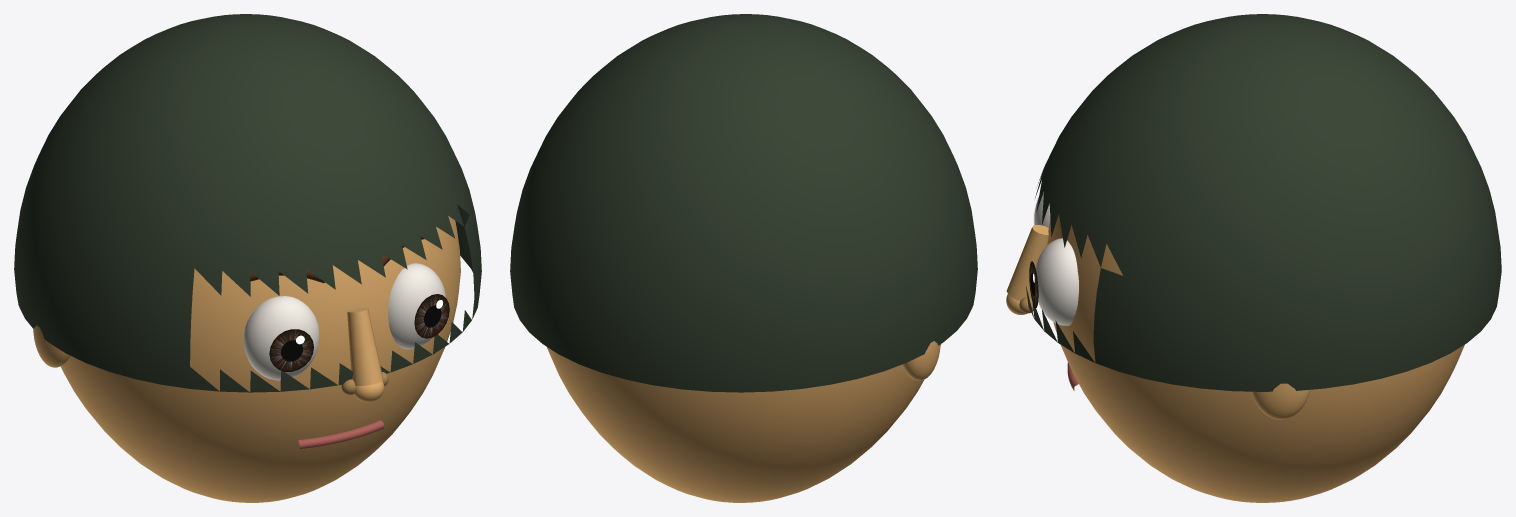
Rendered from 09-cagoule.glb.
3 renders of one model, left to right at view 1: azimuth 30°, elevation 25°; view 2: azimuth 150°, elevation 25°; view 3: azimuth 270°, elevation 25°, orthographic.
Size of the model in its own units: 0.3115 by 0.335 by 0.3306.
10 materials, 1 textured.
